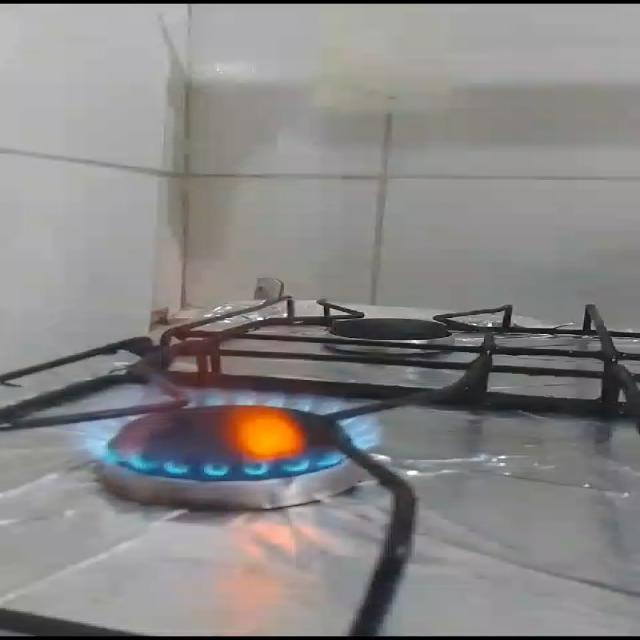fogo-ypXI: (65, 346, 392, 484)
